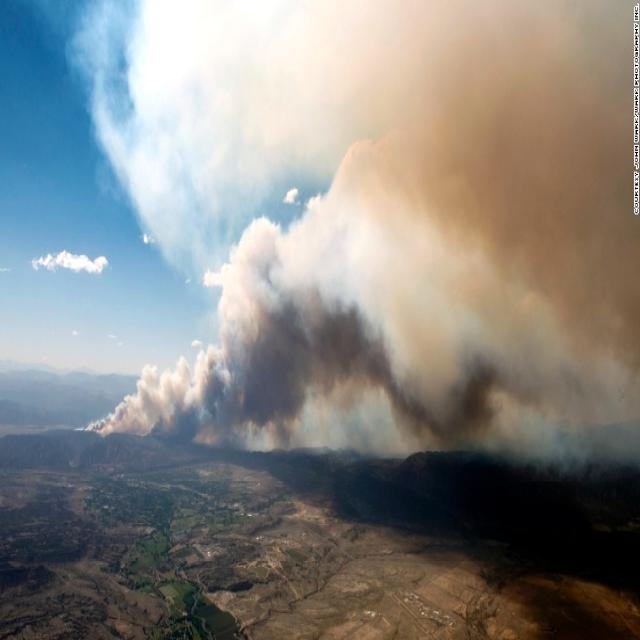Smoke: (382, 0, 640, 438), (110, 236, 361, 434)
